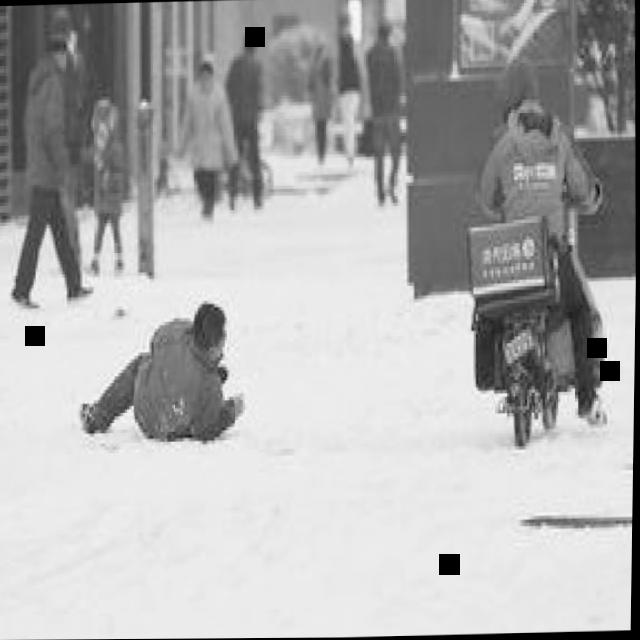Fall-Detected: (76, 282, 259, 451)
